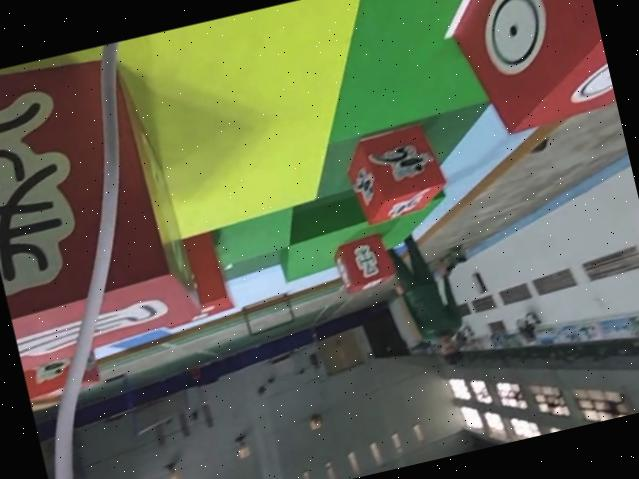R1: (340, 122, 453, 228)
R2 Fake: (0, 35, 207, 373)
R2 Real: (436, 0, 618, 144), (327, 227, 400, 297)
